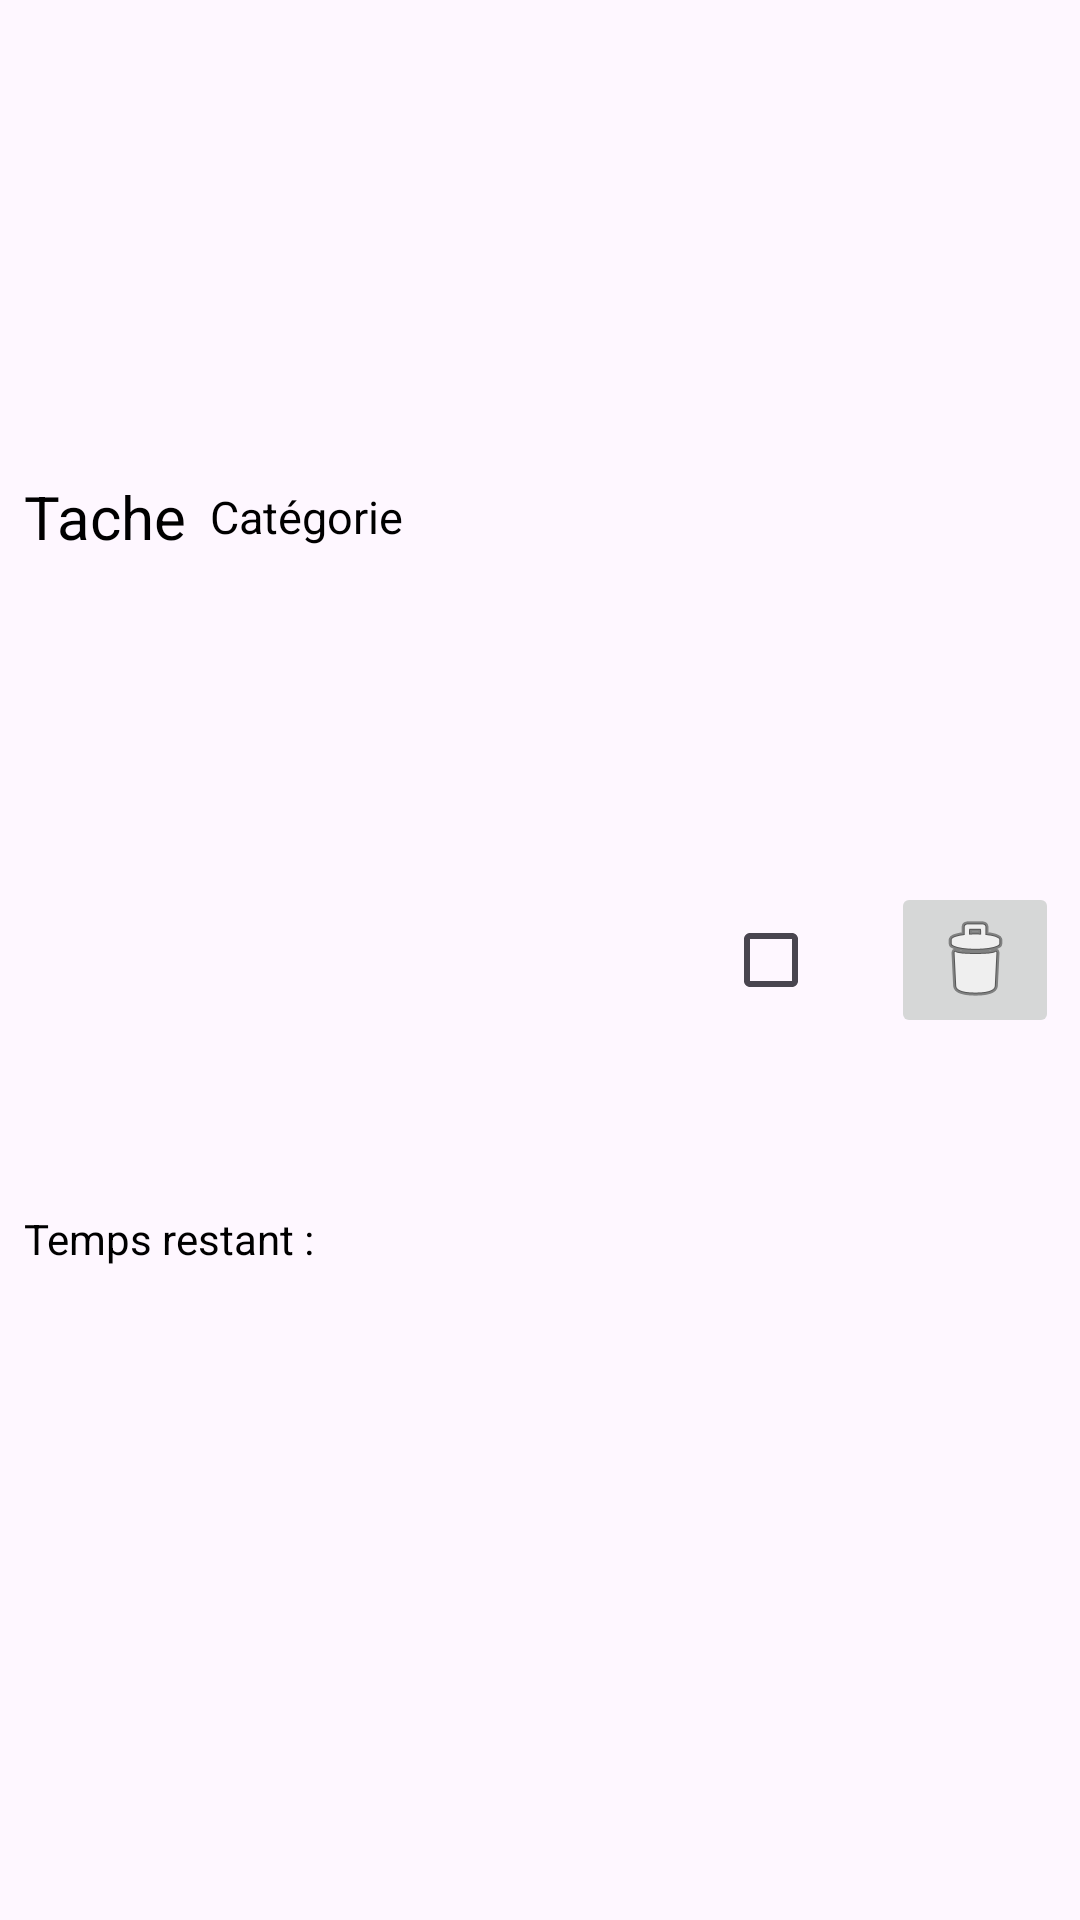

Named icons in this screenshot (1080×1920) and their centers, (x,y):
Supprimer la tâche: (975,960)
